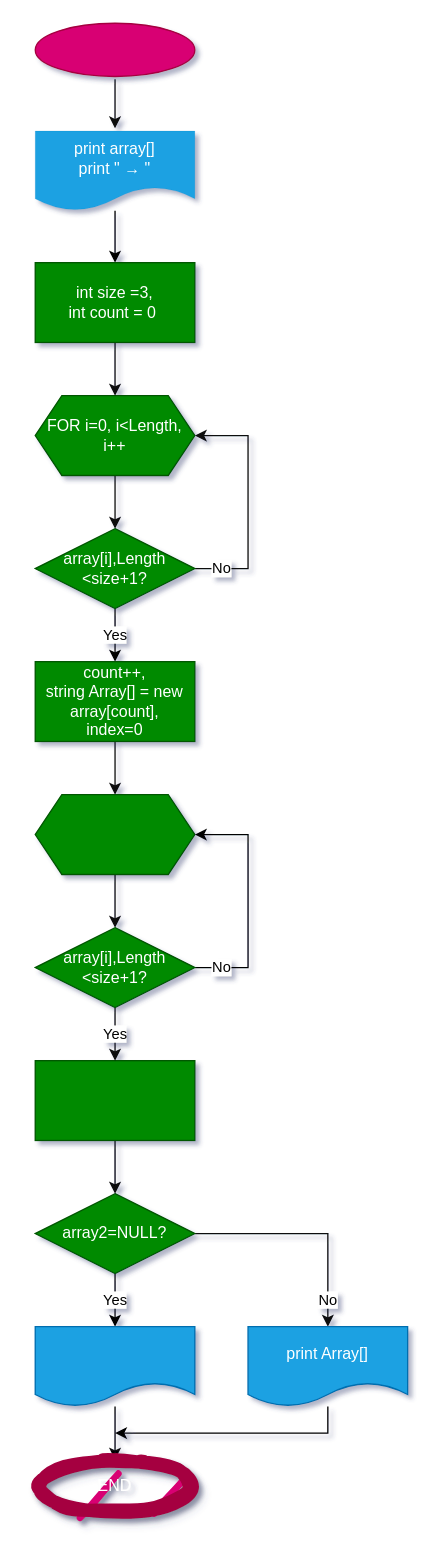
This 439x1560 diagram has some shape labels left out. Here are the shapes that lost their labels. From the top down, the centre of each, then its label:
the point at 114,49: START
the point at 114,833: FOR i=0, i<count, i++
the point at 114,1099: Array[index]=array[i, index++]
the point at 114,1365: print []
